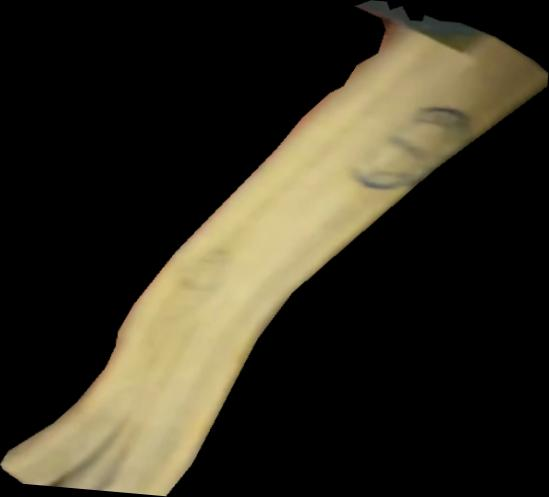backward: (1, 1, 549, 497)
